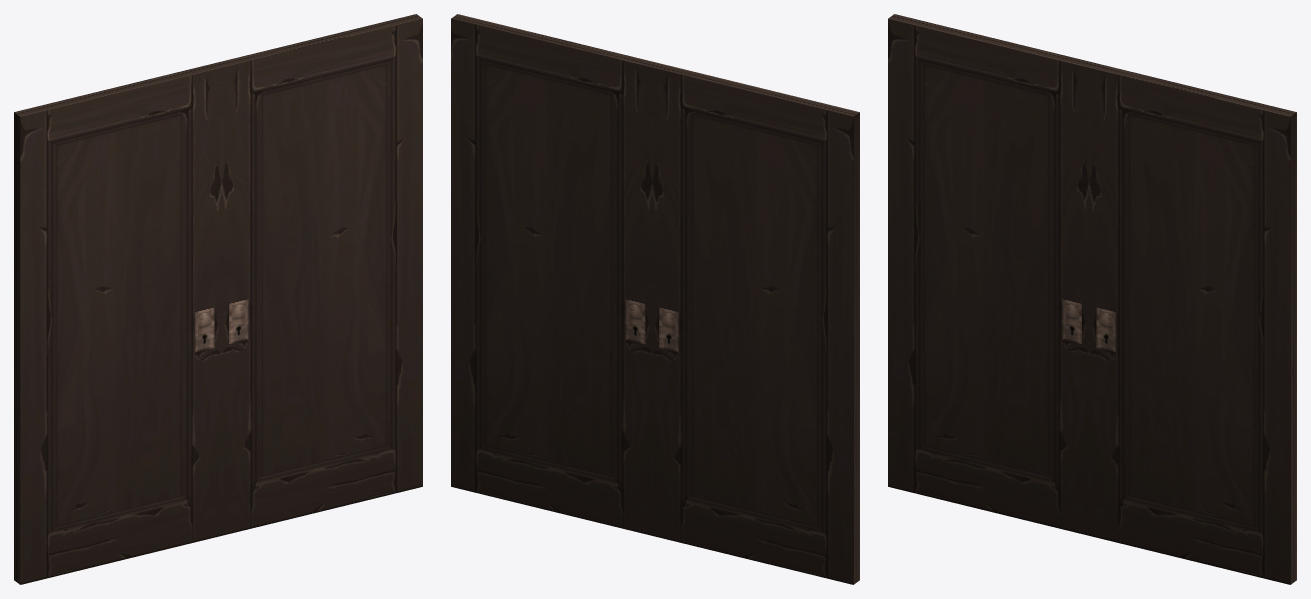
File: double_door.fbx
3 views of the same model, side by side, from view 1: azimuth 30°, elevation 25°; view 2: azimuth 150°, elevation 25°; view 3: azimuth 330°, elevation 25° (orthographic).
Visible parts, largest first — view 1: double_door.001; view 2: double_door.001; view 3: double_door.001.
Part boxes in pixels (x1,y1,x2,y2): double_door.001: (14, 14, 422, 584); double_door.001: (451, 14, 859, 584); double_door.001: (888, 14, 1296, 584).
Bounding box in the file's own units: 2 × 2.22 × 0.0554.
1 material, 1 textured.
